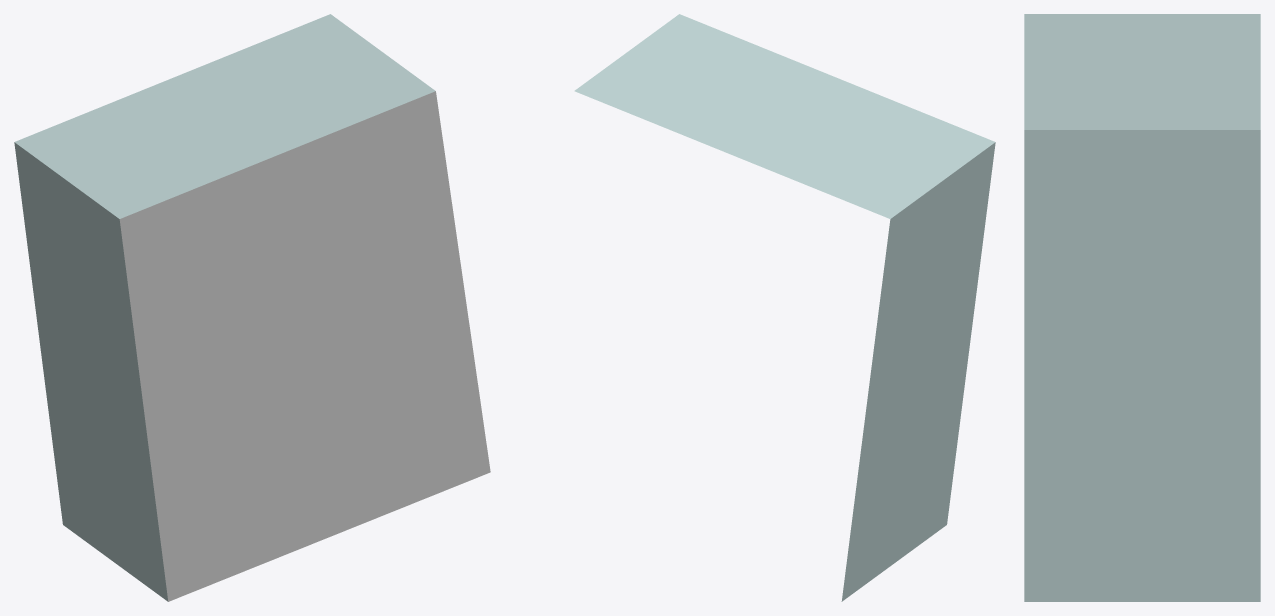
3 renders of one model, left to right at view 1: azimuth 30°, elevation 25°; view 2: azimuth 150°, elevation 25°; view 3: azimuth 270°, elevation 25°, orthographic. The views are drawn at different scales.
Parts seen in each view (by area): view 1: 0_0_2_3_1_0_2_0_0; view 2: 0_0_2_3_1_0_2_0_0; view 3: 0_0_2_3_1_0_2_0_0.
Boxes of the visible parts, x1,y1,x2,y2 form: 0_0_2_3_1_0_2_0_0: (14,14,490,601); 0_0_2_3_1_0_2_0_0: (574,14,995,601); 0_0_2_3_1_0_2_0_0: (1024,14,1260,601).
Bounding box in the file's own units: 6.1 × 7 × 3.
